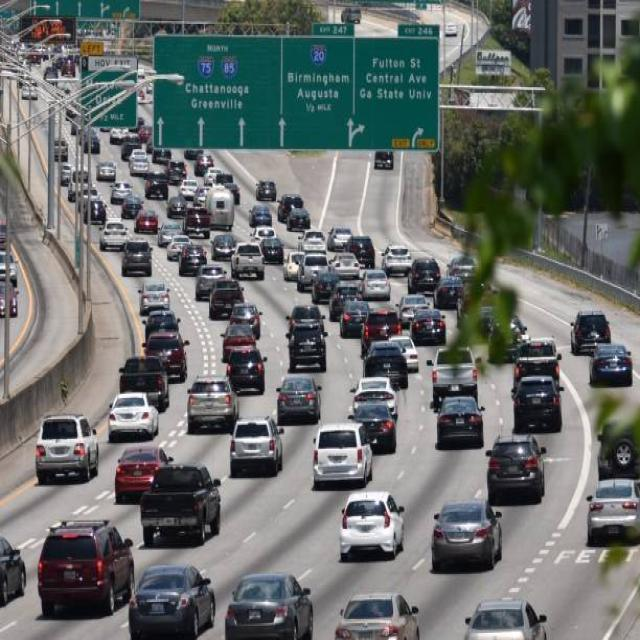Car: (41, 520, 126, 615), (224, 572, 312, 638), (434, 497, 496, 576), (332, 490, 410, 549), (32, 403, 92, 476), (334, 592, 419, 639), (174, 372, 242, 424), (464, 598, 547, 638), (350, 366, 396, 434), (518, 367, 574, 422), (230, 415, 284, 471), (435, 390, 480, 445), (109, 382, 152, 438), (590, 334, 632, 382), (0, 536, 26, 606), (341, 7, 361, 23)
Traffic-sign: (147, 26, 453, 162)
